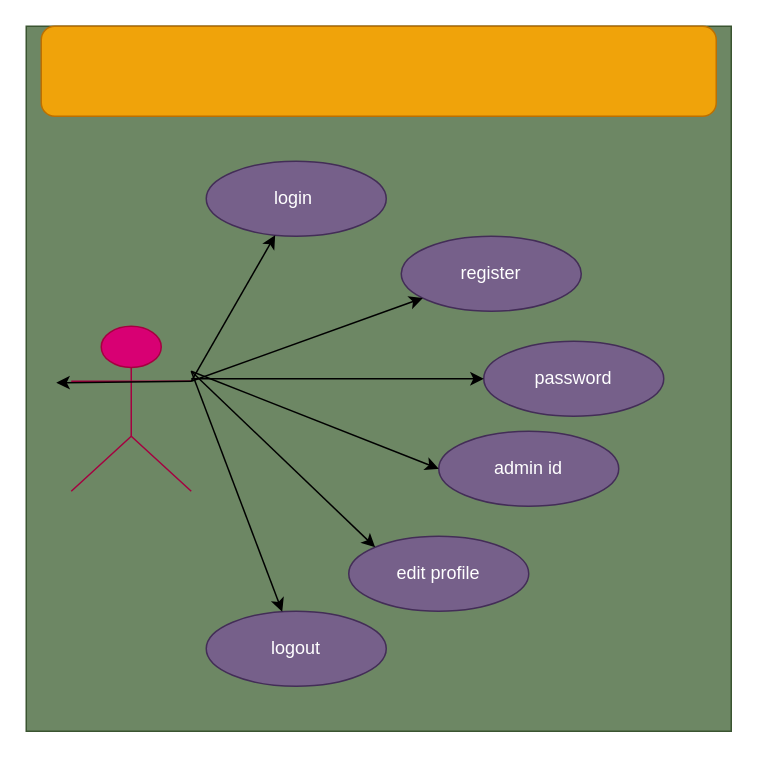
This 758x758 diagram has some shape labels left out. Each missing label, with the centre of its shape:
"Admin" belongs at [130,408].
"admin use case daigram" belongs at [378,70].
